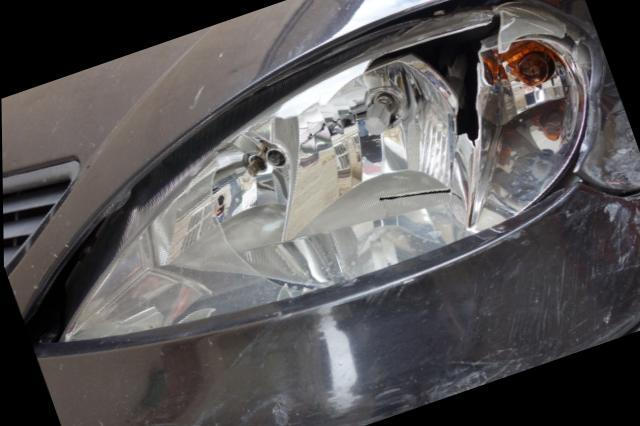dent: (519, 0, 640, 184)
lamp broken: (22, 2, 588, 347)
scratch: (203, 215, 624, 426)
